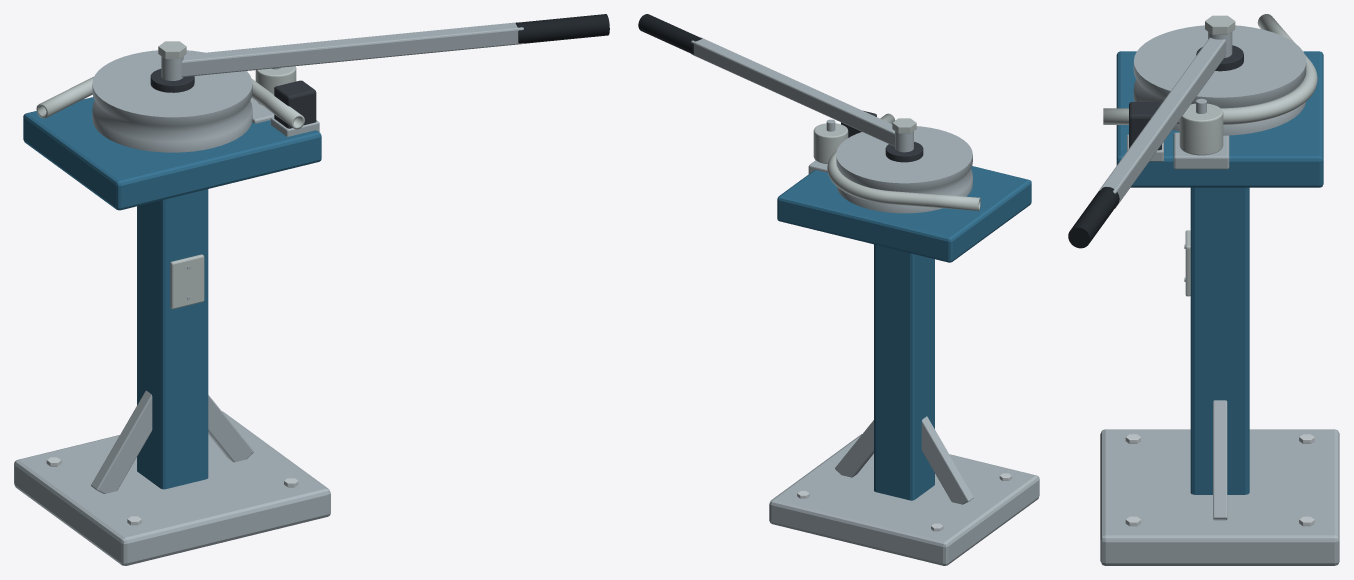
File: city-pedestal-tube-bender.glb
3 renders of one model, left to right at view 1: azimuth 30°, elevation 25°; view 2: azimuth 150°, elevation 25°; view 3: azimuth 270°, elevation 25°, orthographic. The views are drawn at different scales.
Visible parts, largest first — view 1: Assembly | Brushed exposed steel, Assembly | Deep blue service paint, Assembly | Powder-coated light service metal, Assembly | Rubber feet and hoses, Assembly | Dark mechanism trim; view 2: Assembly | Brushed exposed steel, Assembly | Deep blue service paint, Assembly | Powder-coated light service metal, Assembly | Rubber feet and hoses, Assembly | Dark mechanism trim; view 3: Assembly | Brushed exposed steel, Assembly | Deep blue service paint, Assembly | Powder-coated light service metal, Assembly | Rubber feet and hoses, Assembly | Dark mechanism trim, Assembly | Bright small hardware.
Part boxes in pixels (x1=…): Assembly | Brushed exposed steel: x1=14, y1=22, x2=523, y2=565; Assembly | Deep blue service paint: x1=23, y1=97, x2=321, y2=489; Assembly | Powder-coated light service metal: x1=36, y1=41, x2=304, y2=309; Assembly | Rubber feet and hoses: x1=515, y1=14, x2=609, y2=43; Assembly | Dark mechanism trim: x1=150, y1=69, x2=316, y2=128; Assembly | Brushed exposed steel: x1=691, y1=37, x2=1039, y2=565; Assembly | Deep blue service paint: x1=777, y1=166, x2=1031, y2=500; Assembly | Powder-coated light service metal: x1=813, y1=113, x2=980, y2=210; Assembly | Rubber feet and hoses: x1=638, y1=14, x2=702, y2=54; Assembly | Dark mechanism trim: x1=841, y1=110, x2=923, y2=162; Assembly | Brushed exposed steel: x1=1099, y1=25, x2=1339, y2=565; Assembly | Deep blue service paint: x1=1116, y1=51, x2=1323, y2=494; Assembly | Powder-coated light service metal: x1=1103, y1=14, x2=1317, y2=296; Assembly | Rubber feet and hoses: x1=1068, y1=186, x2=1119, y2=248; Assembly | Dark mechanism trim: x1=1129, y1=45, x2=1243, y2=150; Assembly | Bright small hardware: x1=1125, y1=434, x2=1314, y2=526.
Bounding box in the file's own units: 1.29 × 1.16 × 0.5821.
